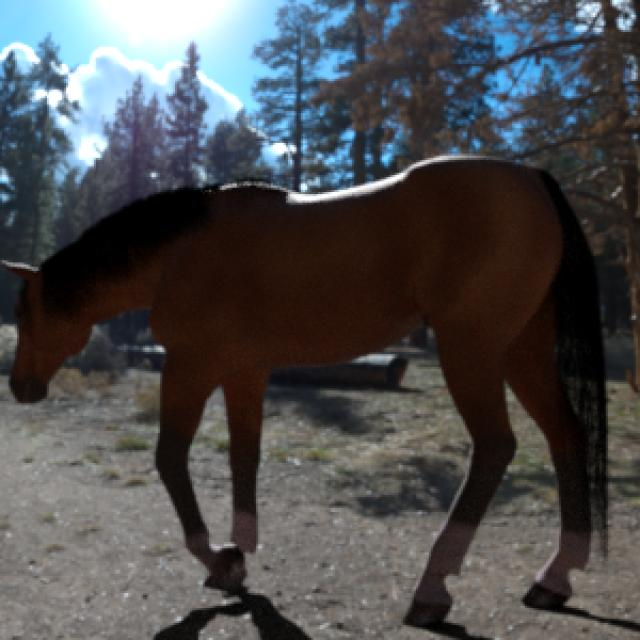horse: (6, 156, 606, 626)
